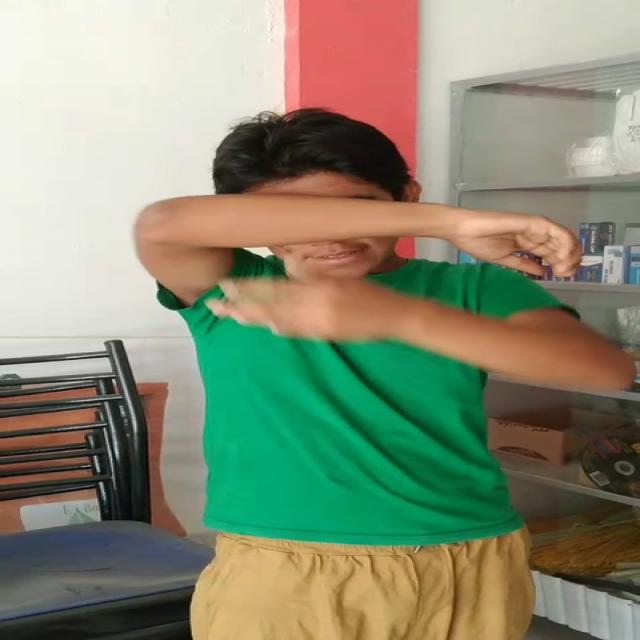7_mano_rostro: (206, 194, 504, 261)
